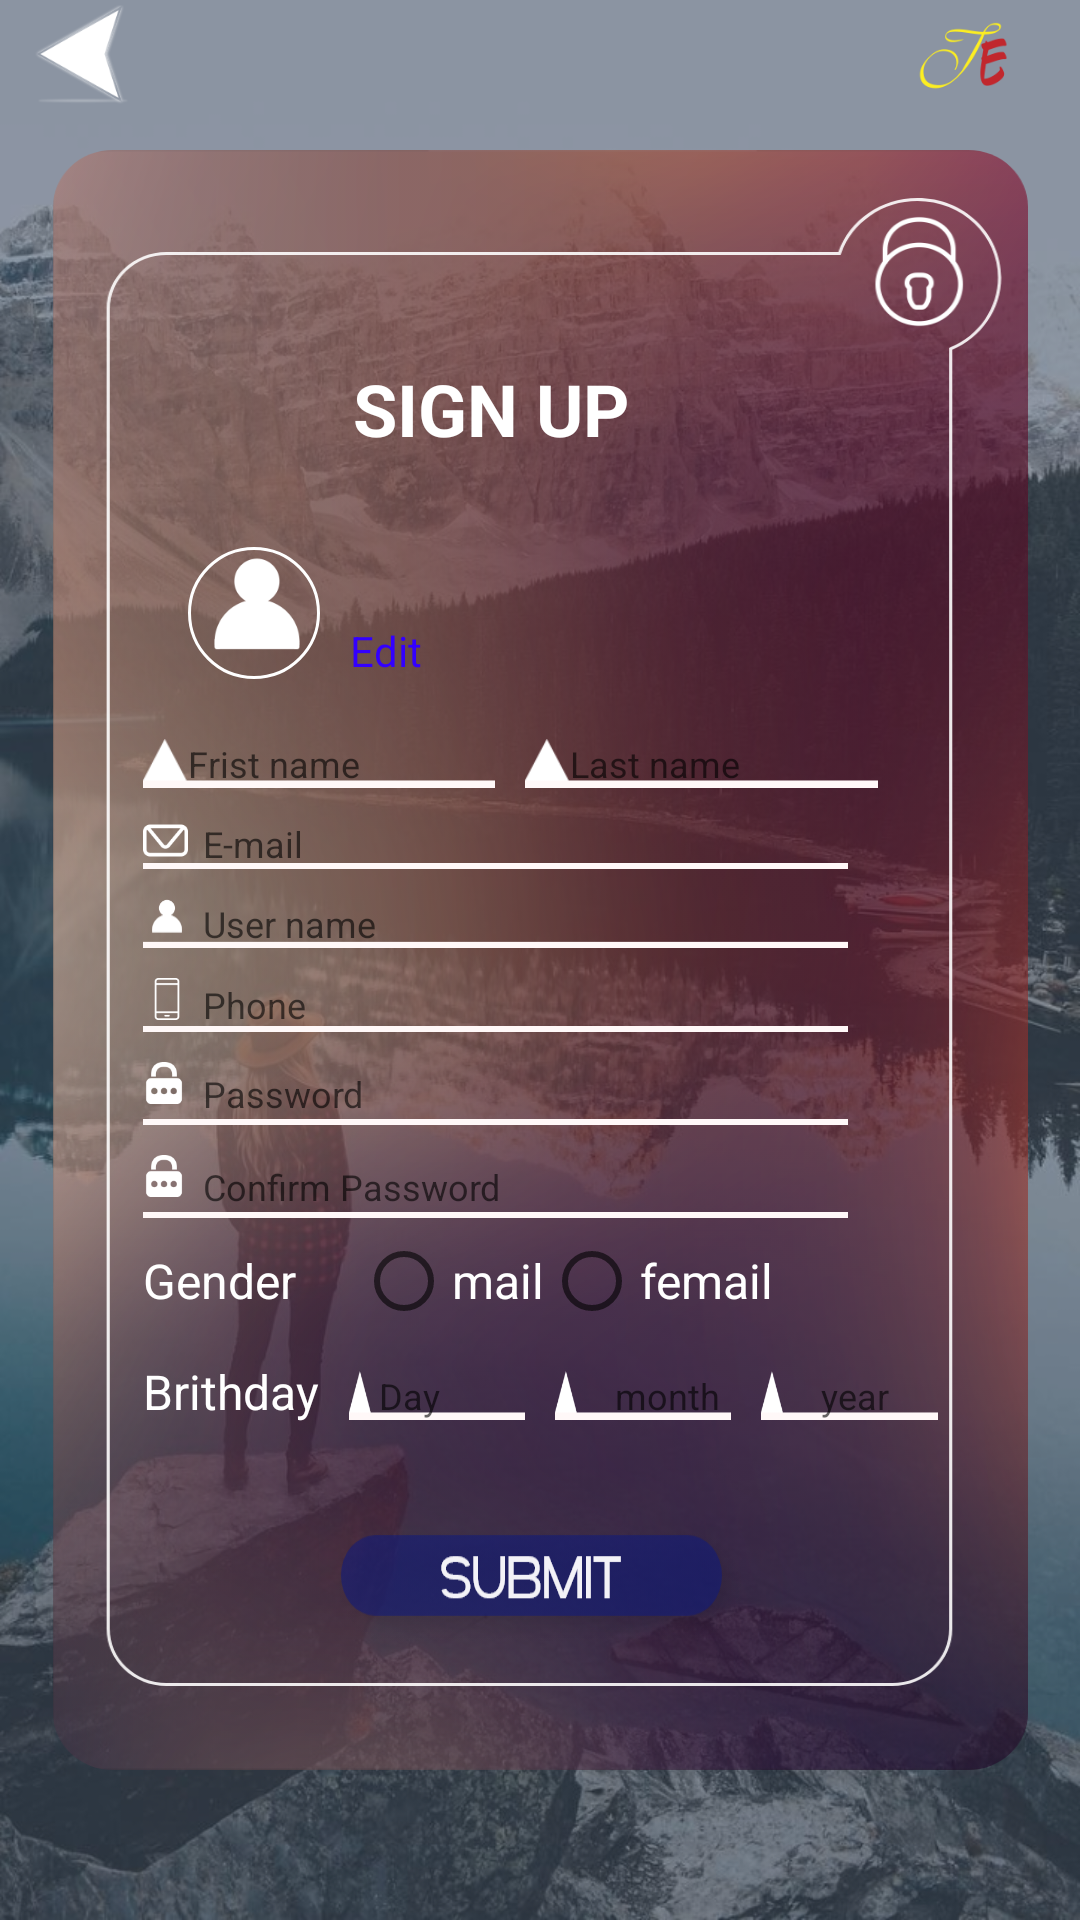

Screen size 1080×1920. Icon name, then its center in pixels as point (x, y):
back: point (80, 54)
profile: point (254, 613)
